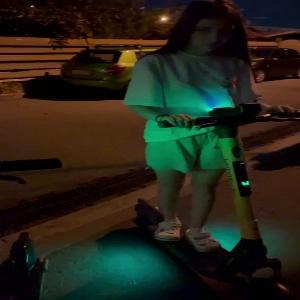human on a scooter: (116, 1, 289, 295)
